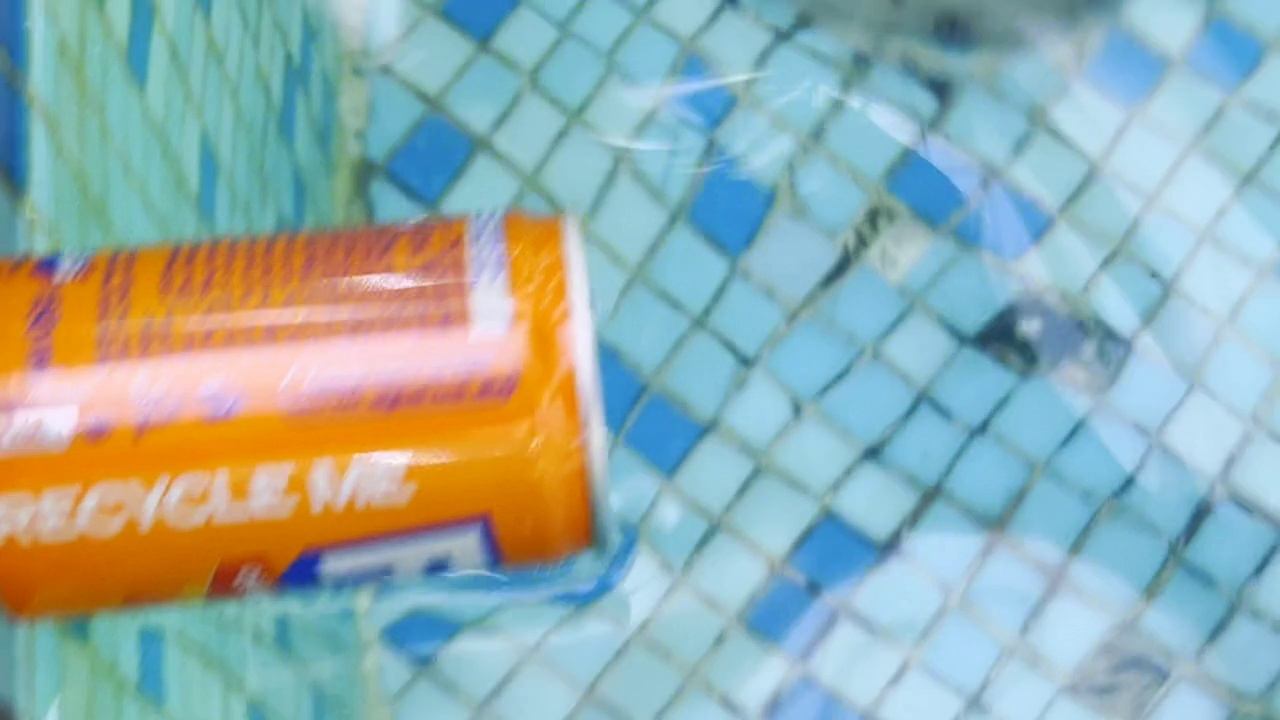debris: (0, 187, 615, 648)
